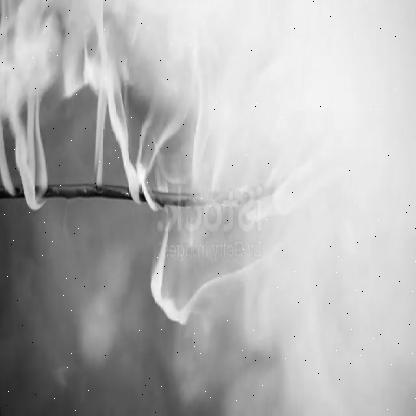smoke: (2, 0, 414, 416)
